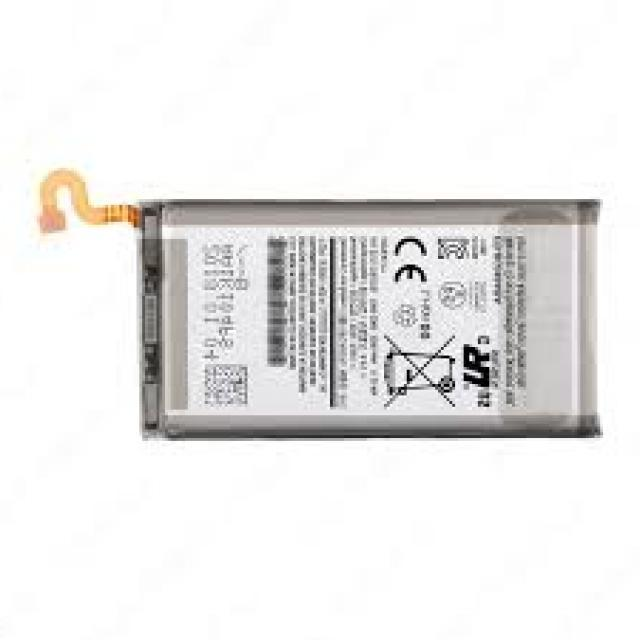battery: (35, 170, 607, 444)
